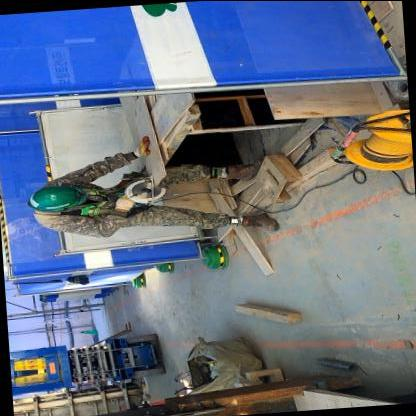Helmet: (27, 176, 90, 217)
safety-shoe: (236, 205, 288, 236), (212, 155, 265, 183)
